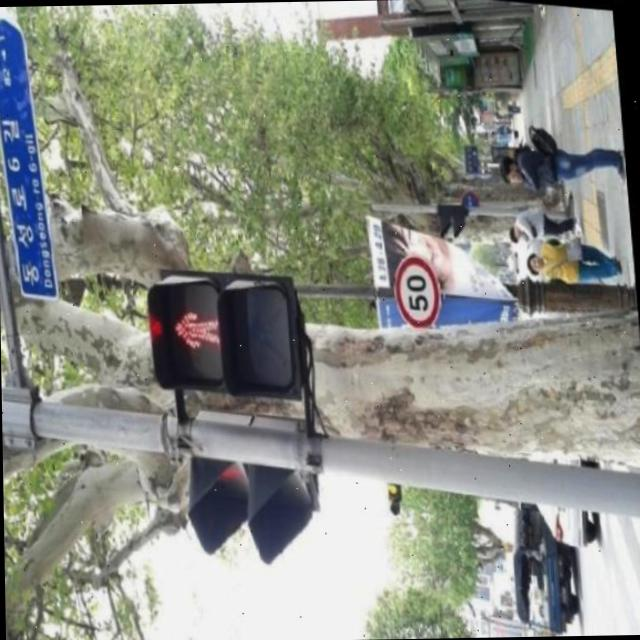red_light: (171, 286, 230, 358), (206, 459, 248, 503)
